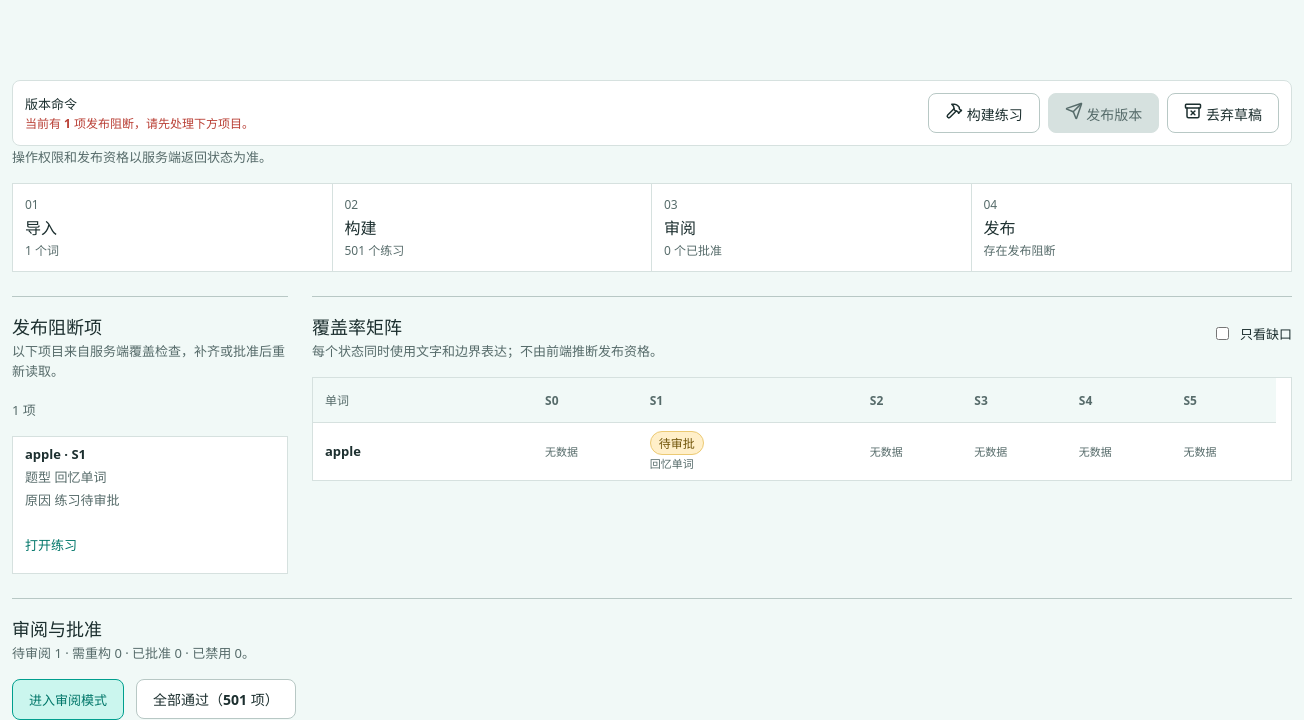
SourceVersionDetailPage › chunks one-click approval larger than the shared API limit and refreshes once after all batches
(page scrolled)
Step 1. Click the button "全部通过（501 项）" → (216, 699), box [136, 679, 296, 719]
(page scrolled)
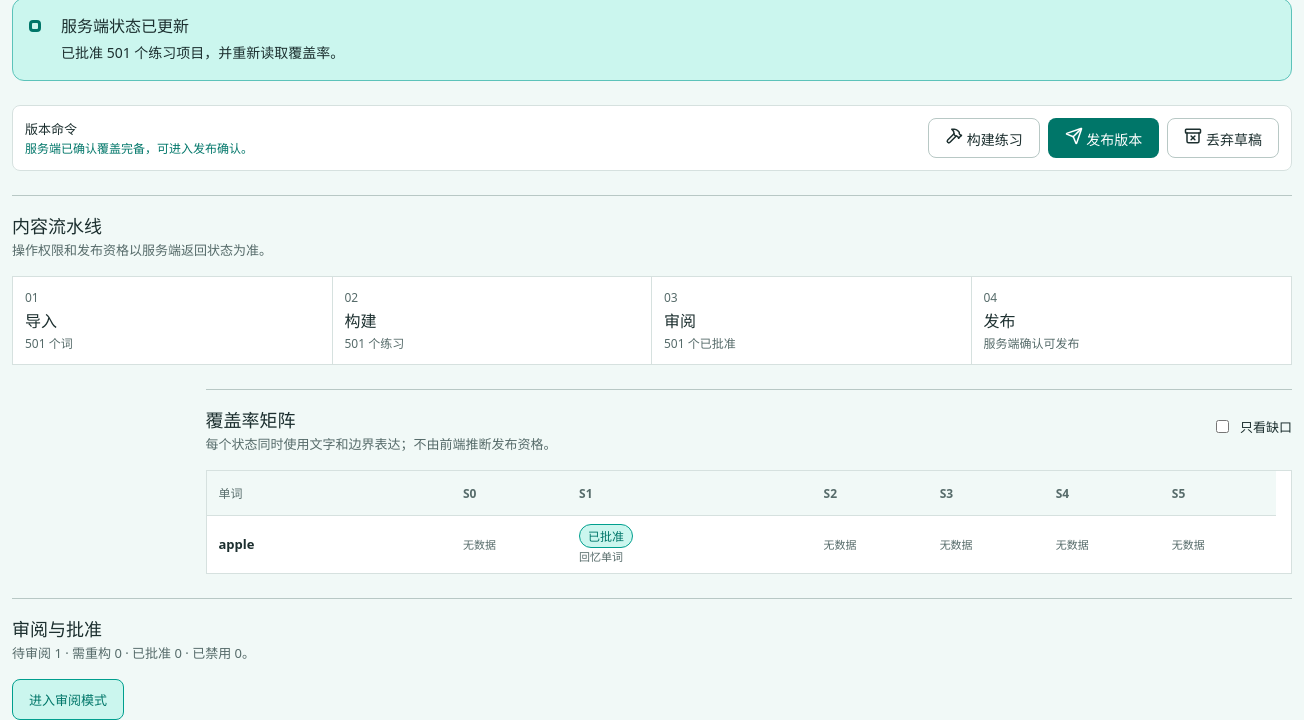
Expected: the text "已批准 501 个练习项目" is shown, [61, 43, 344, 62]
